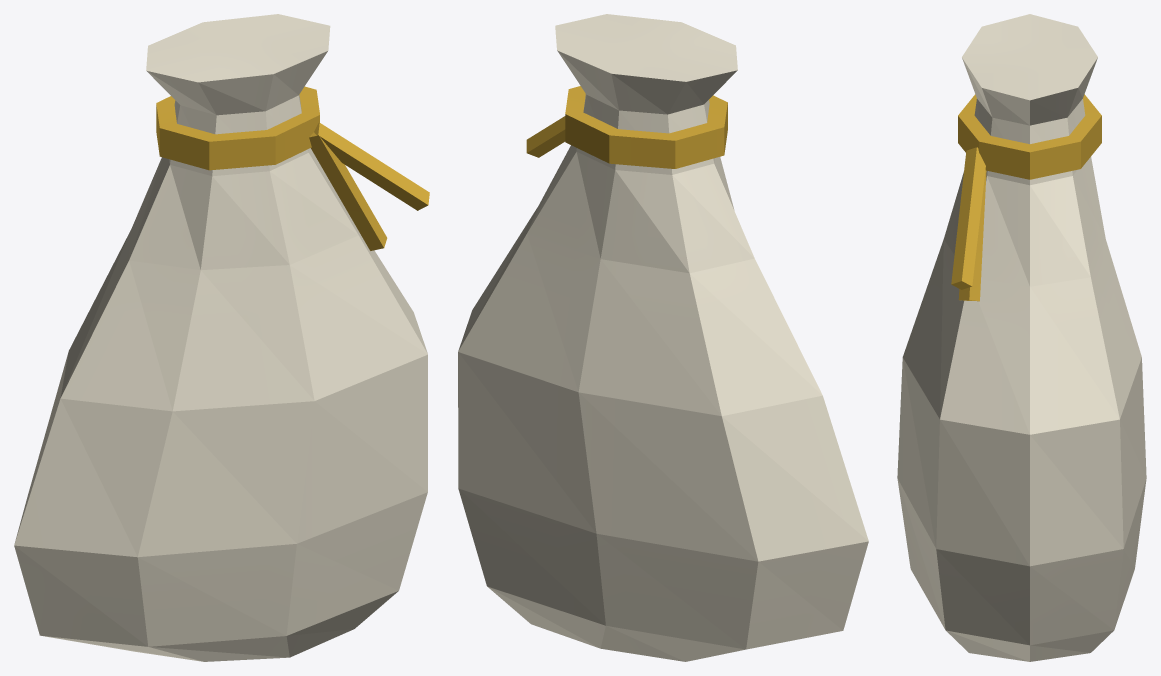
Rendered from seed_bag.obj.
3 renders of one model, left to right at view 1: azimuth 30°, elevation 25°; view 2: azimuth 150°, elevation 25°; view 3: azimuth 270°, elevation 25°, orthographic. The views are drawn at different scales.
Visible parts, largest first — view 1: folded_leather_sack_belly_and_gathered_neck, cord_cinch_and_short_tied_ends; view 2: folded_leather_sack_belly_and_gathered_neck, cord_cinch_and_short_tied_ends; view 3: folded_leather_sack_belly_and_gathered_neck, cord_cinch_and_short_tied_ends.
Boxes of the visible parts, x1,y1,x2,y2 form: folded_leather_sack_belly_and_gathered_neck: [14, 14, 427, 661]; cord_cinch_and_short_tied_ends: [156, 86, 429, 250]; folded_leather_sack_belly_and_gathered_neck: [458, 14, 868, 661]; cord_cinch_and_short_tied_ends: [526, 86, 727, 168]; folded_leather_sack_belly_and_gathered_neck: [897, 14, 1146, 661]; cord_cinch_and_short_tied_ends: [951, 94, 1101, 301].
Size of the model in its own units: 0.3684 by 0.5062 by 0.2056.
